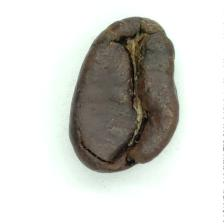NG: (77, 27, 165, 162)
